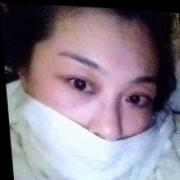WRONG: (23, 19, 163, 180)
